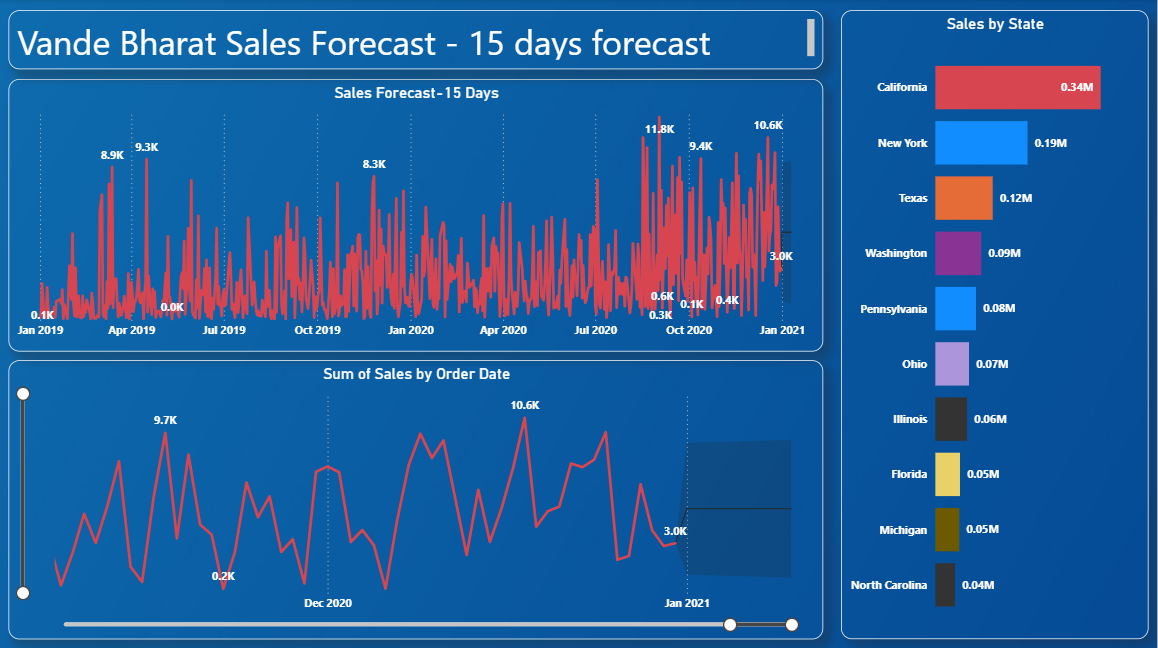

What the dashboard file says about the page in this screenshot:
{"tool":"powerbi","page":{"name":"Page 2","canvas":[1280,720],"ordinal":1},"visuals":[{"type":"lineChart","title":"Sales Forecast-15 Days","fields":{"Y":["Sum(Vande Bharat sales dataset.Sales)"],"Category":["Vande Bharat sales dataset.Order Date"]},"box":[19.2,87.8,894.7,299.1],"z":0},{"type":"lineChart","fields":{"Y":["Sum(Vande Bharat sales dataset.Sales)"],"Category":["Vande Bharat sales dataset.Order Date"]},"box":[19.2,396.6,894.7,306],"z":1000},{"type":"textbox","box":[19.2,12.3,894.7,64.5],"z":2000},{"type":"clusteredBarChart","title":"Sales by State","fields":{"Category":["Vande Bharat sales dataset.State"],"Y":["Sum(Vande Bharat sales dataset.Sales)"]},"box":[933.1,12.3,337.6,690.2],"z":3000}]}

Visuals, with their boxes in screenshot pixels (x1, y1, x2, y2), scaled from the page's 1280x720 canvas onto the 1158x648 screenshot:
"Sales Forecast-15 Days" lineChart: x1=17 y1=79 x2=827 y2=348
lineChart - Sum(Vande Bharat sales dataset.Sales) x Vande Bharat sales dataset.Order Date: x1=17 y1=357 x2=827 y2=632
textbox: x1=17 y1=11 x2=827 y2=69
"Sales by State" clusteredBarChart: x1=844 y1=11 x2=1150 y2=632
